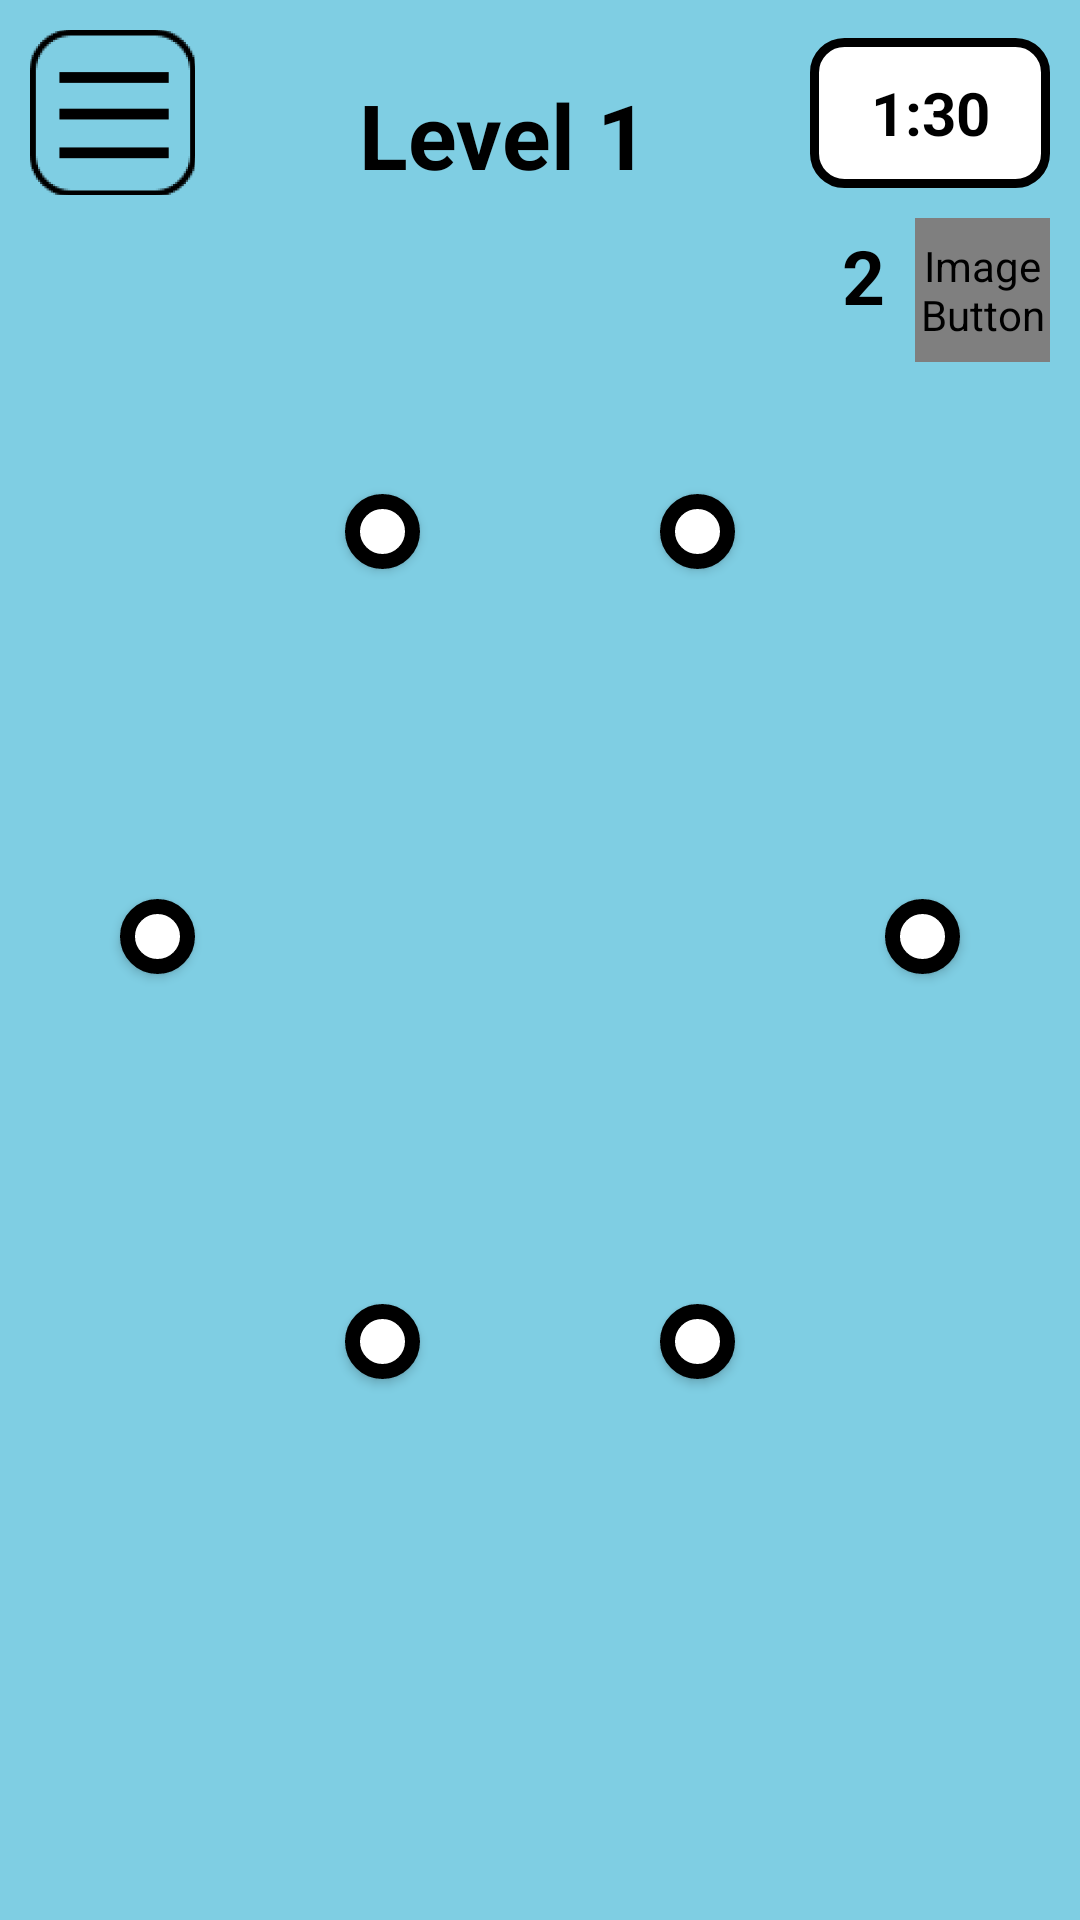

Screen size 1080w x 1920h. Icon name, then its box in pixels as bbox(x1, y1, x2, y2):
node: bbox(345, 494, 420, 569), bbox(660, 494, 735, 569), bbox(120, 899, 195, 974), bbox(885, 899, 960, 974), bbox(345, 1304, 420, 1379), bbox(660, 1304, 735, 1379)
